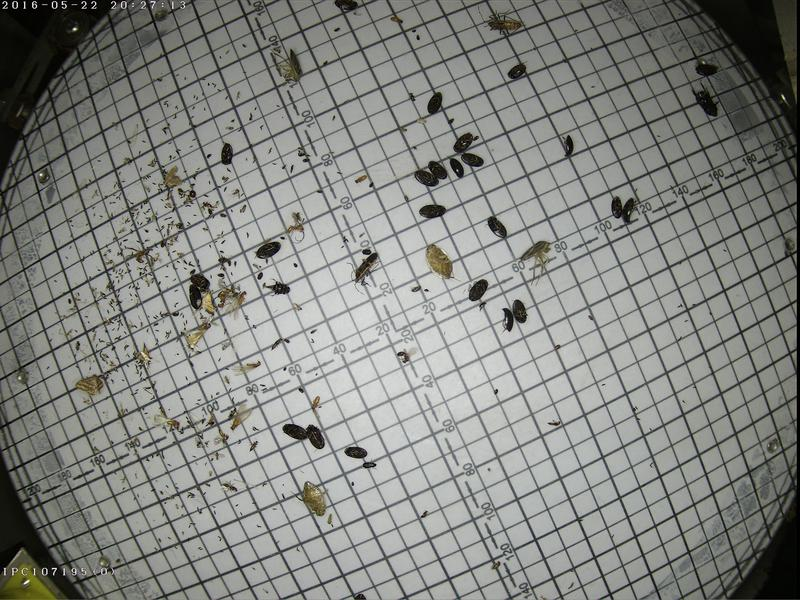Rice Leaf Roller: (195, 288, 215, 316)
